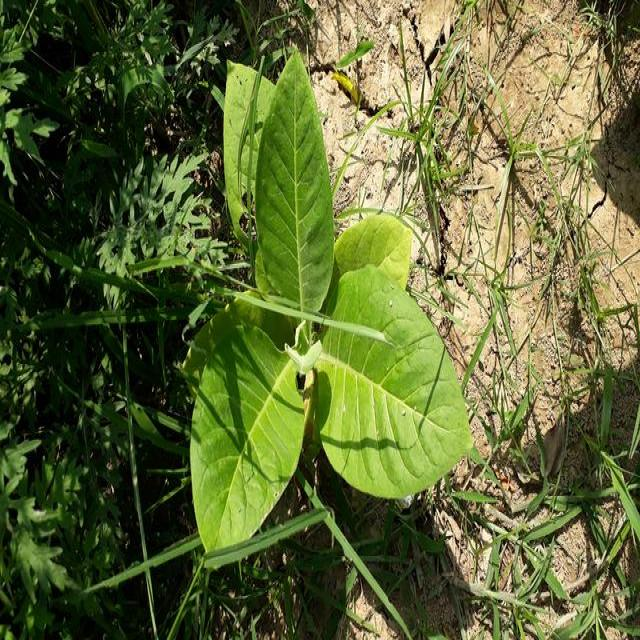crop: (185, 72, 470, 558)
